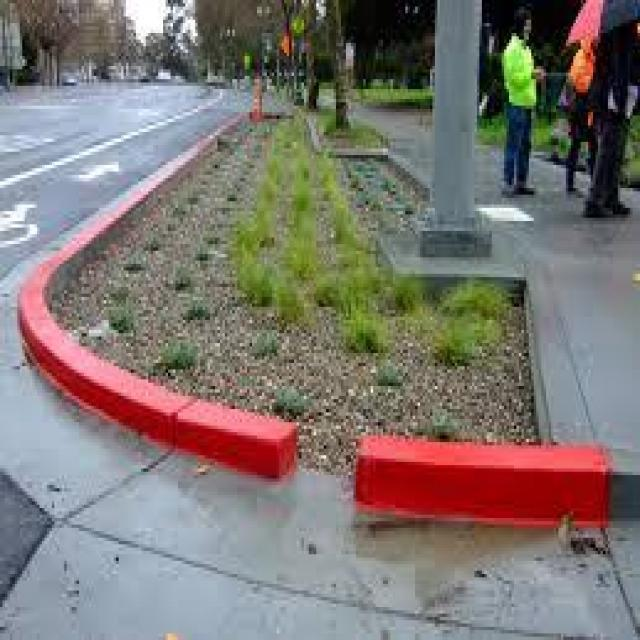curb: (124, 372, 310, 489), (360, 439, 611, 523), (24, 296, 137, 442)
